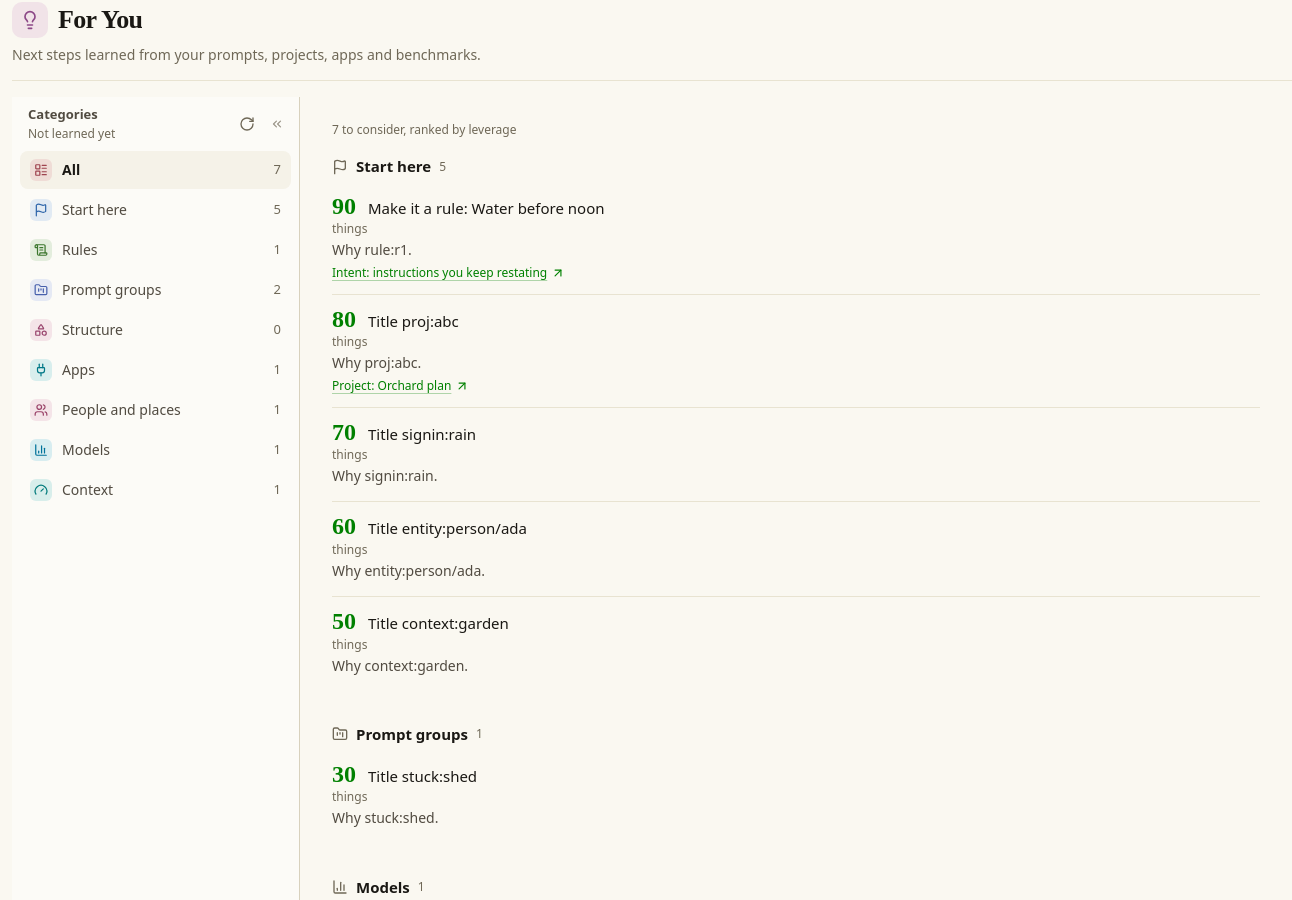
Scenario: RecommendationsPanel › sticky header, category spine with counts, Start here first
Expected: the element that starts with "For You" is shown, [12,2,481,64]
Expected: the text "2" is shown, [274,280,281,300]
Click the button with test id "spine-people" at x=156, y=410, box [20,391,291,429]
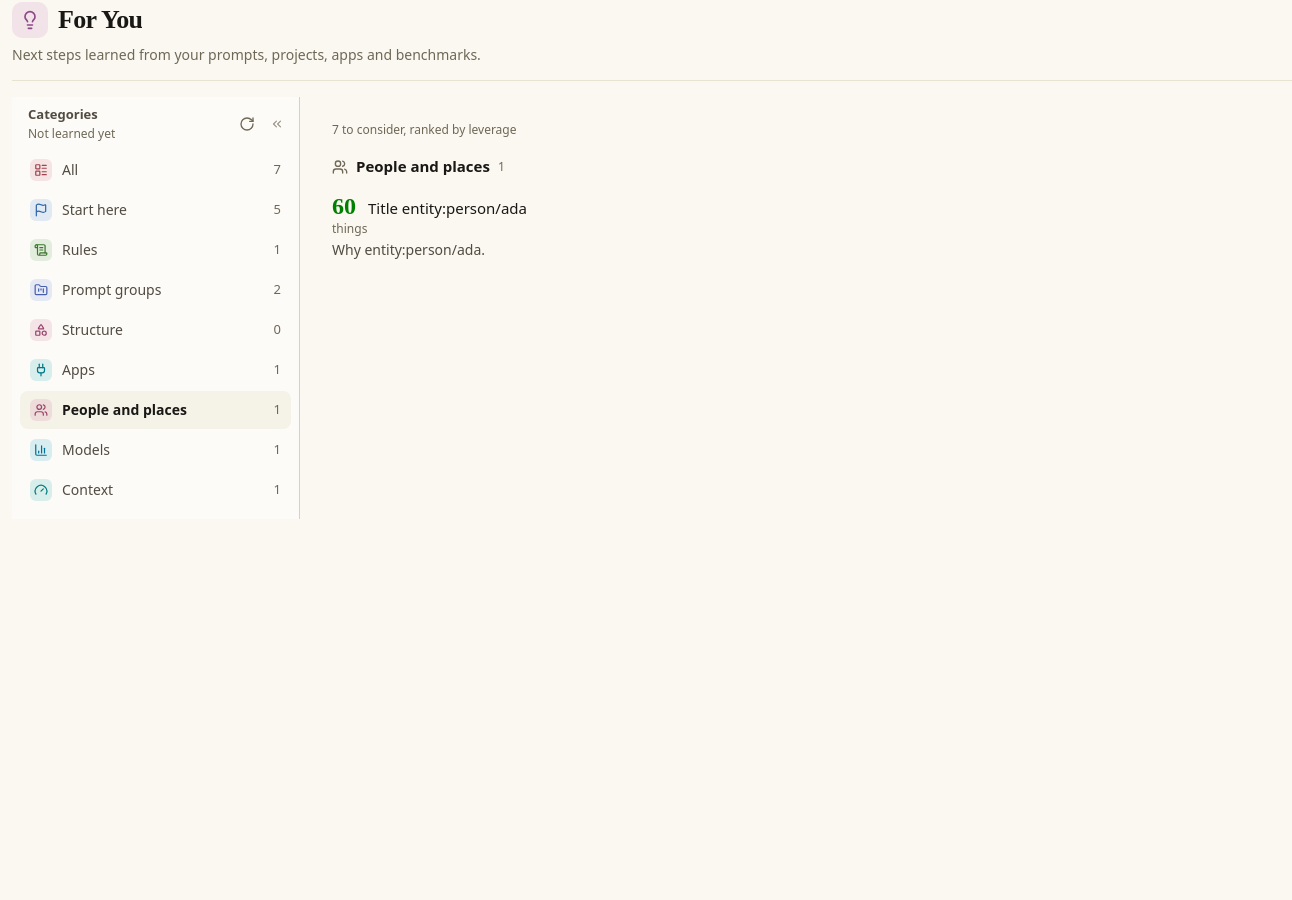
Result: the element with test id "section-people" is shown at [332,156,527,259]
Result: the number of list items with test id "rec-item" is 1 at [332,193,527,259]
